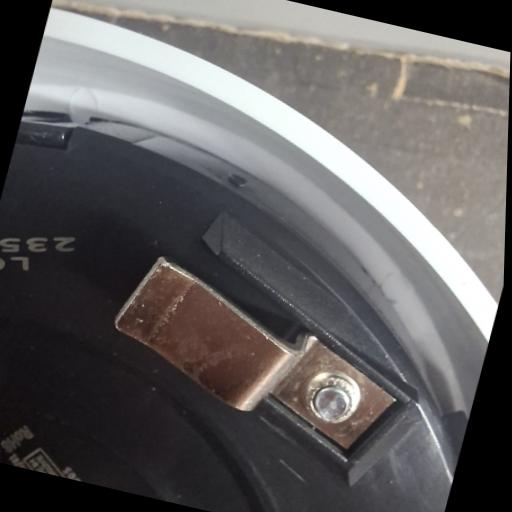yaysiz: (106, 248, 428, 464)
